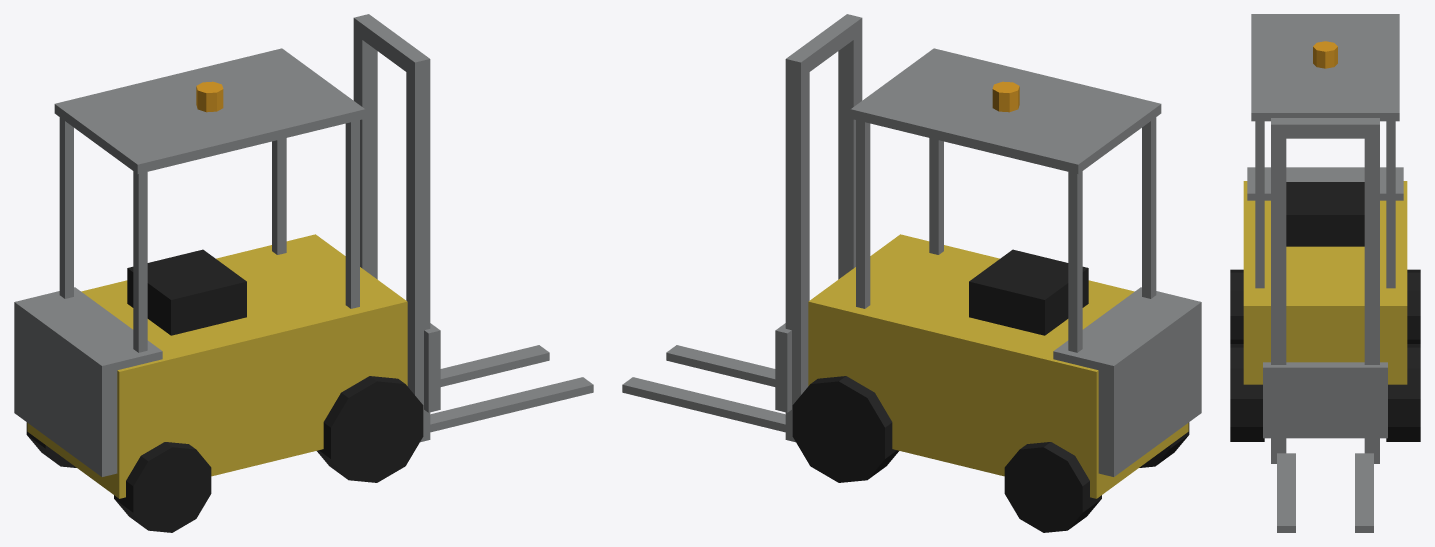
Rendered from hangar_chariot_elevateur.glb.
The picture shows the model from 3 angles, left to right: view 1: azimuth 30°, elevation 25°; view 2: azimuth 150°, elevation 25°; view 3: azimuth 270°, elevation 25°; orthographic projection. The views are drawn at different scales.
Parts seen in each view (by area): view 1: hangar_chariot_elevateur; view 2: hangar_chariot_elevateur; view 3: hangar_chariot_elevateur.
Boxes of the visible parts, x1,y1,x2,y2 form: hangar_chariot_elevateur: (14, 14, 593, 532); hangar_chariot_elevateur: (622, 14, 1201, 532); hangar_chariot_elevateur: (1230, 14, 1420, 532).
Bounding box in the file's own units: 3.35 × 2.45 × 1.22.
